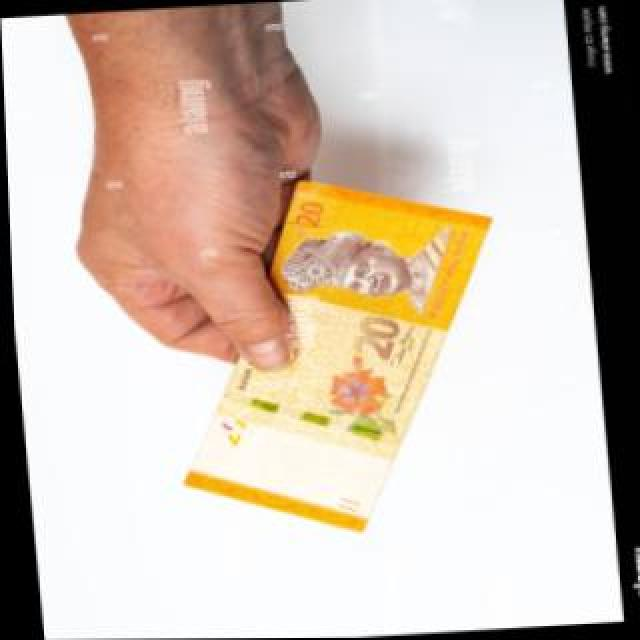20 Ringgit: (142, 150, 540, 550)
